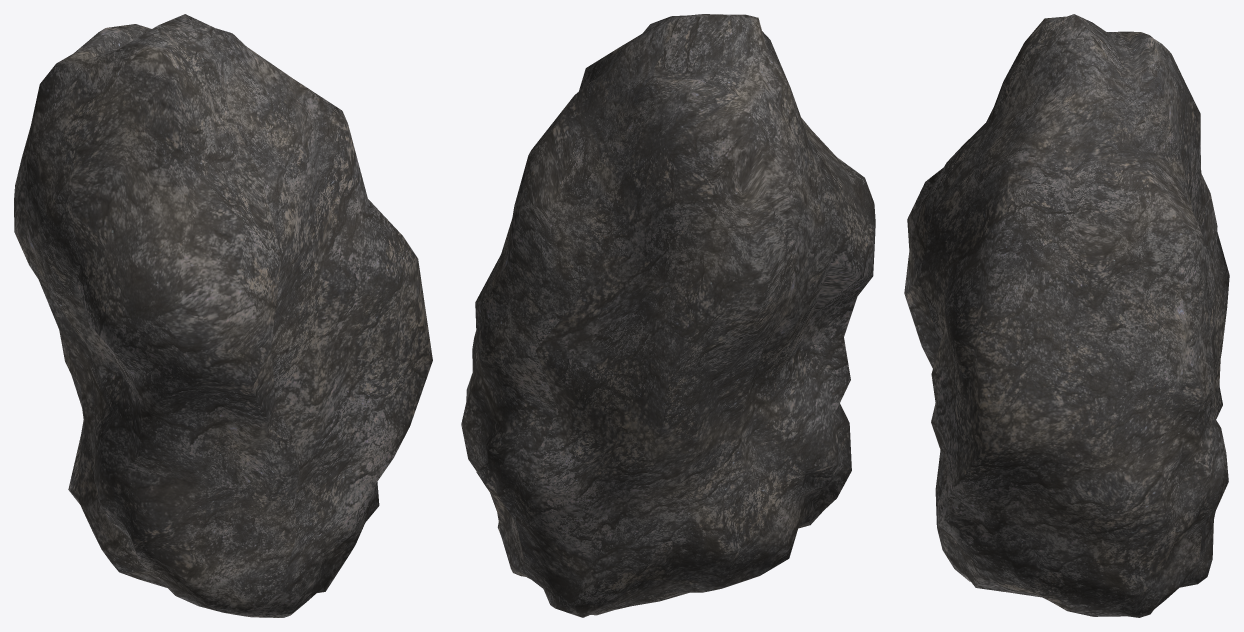
The model's file is Rock03.dae.
3 renders of one model, left to right at view 1: azimuth 30°, elevation 25°; view 2: azimuth 150°, elevation 25°; view 3: azimuth 270°, elevation 25°, orthographic. The views are drawn at different scales.
Parts seen in each view (by area): view 1: Rock03; view 2: Rock03; view 3: Rock03.
Boxes of the visible parts, x1,y1,x2,y2 form: Rock03: [14, 14, 432, 617]; Rock03: [461, 14, 875, 617]; Rock03: [904, 14, 1229, 617].
Size of the model in its own units: 6048 by 5332 by 9908.
1 material, 1 textured.
